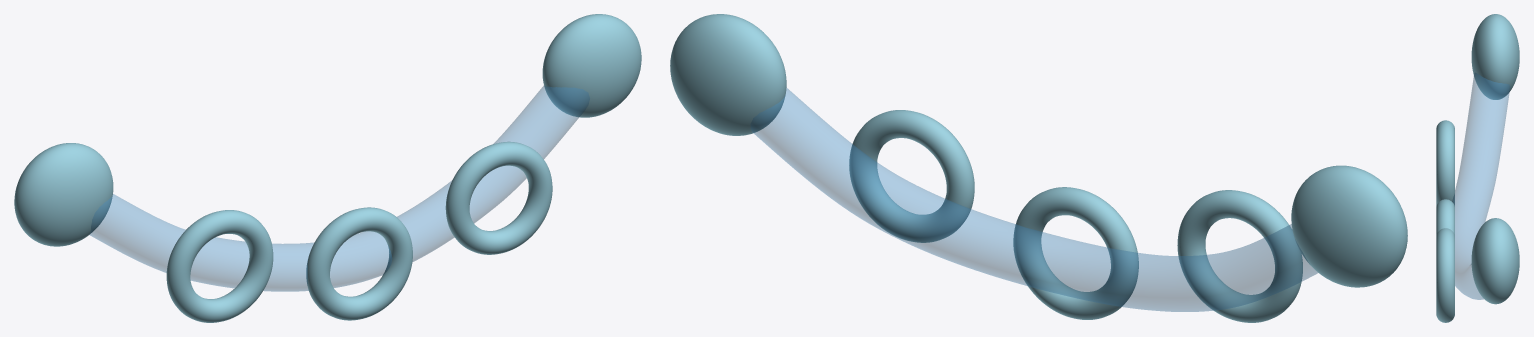
3 views of the same model, side by side, from view 1: azimuth 30°, elevation 25°; view 2: azimuth 150°, elevation 25°; view 3: azimuth 270°, elevation 25° (orthographic). The views are drawn at different scales.
Parts seen in each view (by area): view 1: suspended-rail, suspension-anchor-1.4, suspension-anchor--1.4, socket-0, socket-2, socket-1; view 2: suspended-rail, suspension-anchor--1.4, suspension-anchor-1.4, socket-2, socket-1, socket-0; view 3: suspended-rail, suspension-anchor-1.4, suspension-anchor--1.4, socket-2, socket-0, socket-1.
Boxes of the visible parts, box(x1,y1,x2,y2) form: suspended-rail: box(90, 86, 589, 291); suspension-anchor-1.4: box(542, 14, 641, 117); suspension-anchor--1.4: box(14, 143, 113, 246); socket-0: box(166, 210, 273, 322); socket-2: box(445, 141, 552, 254); socket-1: box(306, 207, 412, 320); suspended-rail: box(750, 88, 1317, 311); suspension-anchor--1.4: box(1291, 165, 1407, 287); suspension-anchor-1.4: box(670, 14, 786, 135); socket-2: box(849, 110, 974, 242); socket-1: box(1013, 187, 1138, 319); socket-0: box(1177, 190, 1302, 322); suspended-rail: box(1452, 73, 1509, 299); suspension-anchor-1.4: box(1471, 218, 1519, 304); suspension-anchor--1.4: box(1471, 14, 1519, 99); socket-2: box(1436, 228, 1454, 322); socket-0: box(1436, 120, 1454, 206); socket-1: box(1436, 199, 1454, 235).
Size of the model in its own units: 3.3 by 1.09 by 0.485.
